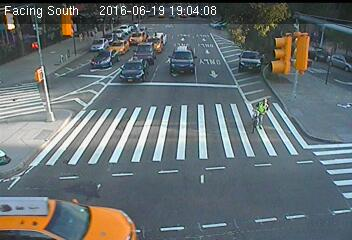neg: (234, 88, 283, 152), (45, 40, 76, 80)
